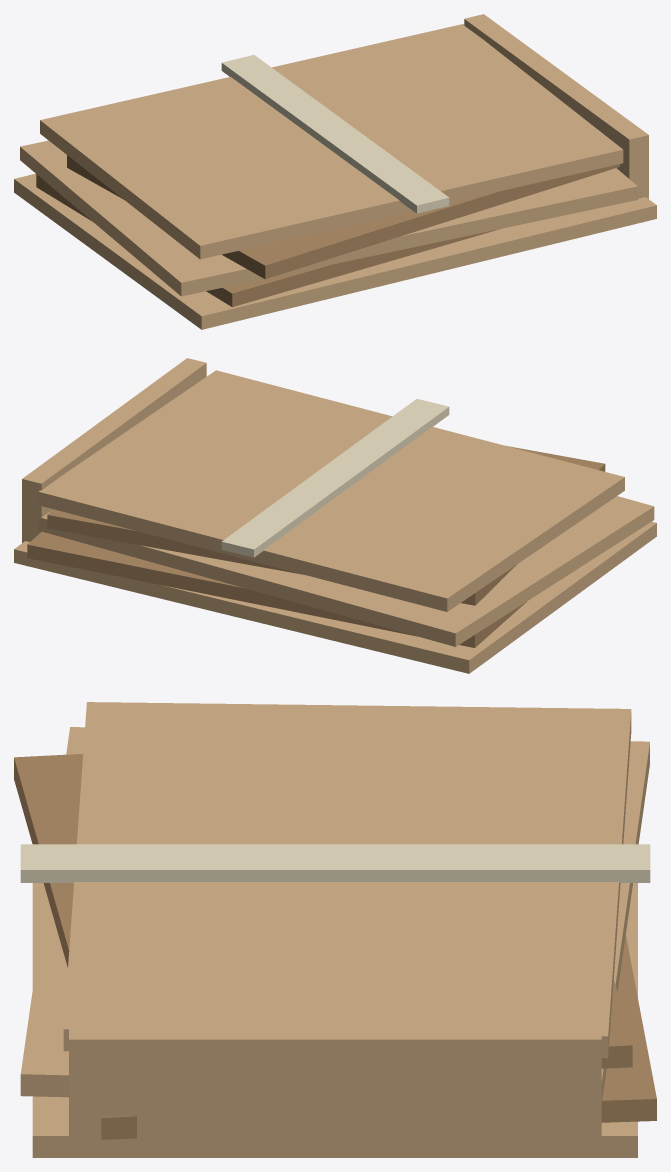
File: prop-hide-pile.fbx
3 views of the same model, one above another, from view 1: azimuth 30°, elevation 25°; view 2: azimuth 150°, elevation 25°; view 3: azimuth 270°, elevation 25° (orthographic). The views are drawn at different scales.
Visible parts, largest first — view 1: prop-hide-pile; view 2: prop-hide-pile; view 3: prop-hide-pile.
Part boxes in pixels (x1,y1,x2,y2): prop-hide-pile: [14, 14, 656, 329]; prop-hide-pile: [14, 358, 656, 673]; prop-hide-pile: [14, 702, 656, 1157].
Bounding box in the file's own units: 72.11 × 11.1 × 53.12.
